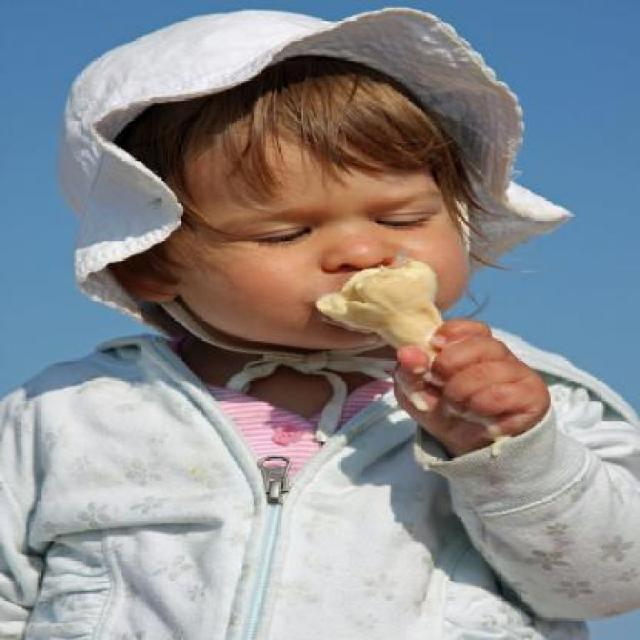Ice cream: (304, 253, 458, 409)
